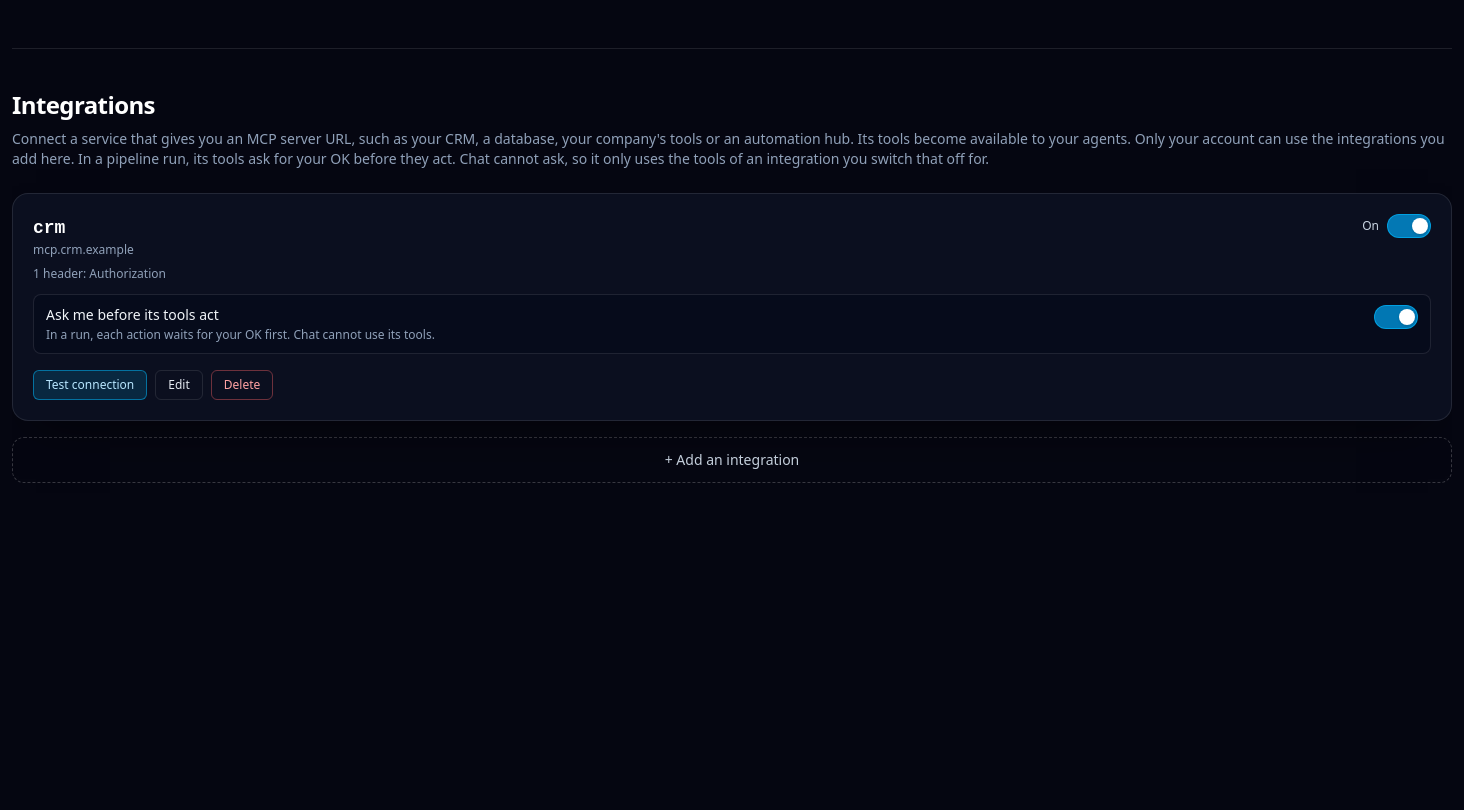
Test: IntegrationsSection › edits an integration, showing saved values only as hints
Click the button "Edit": [179, 385] box [155, 370, 203, 400]
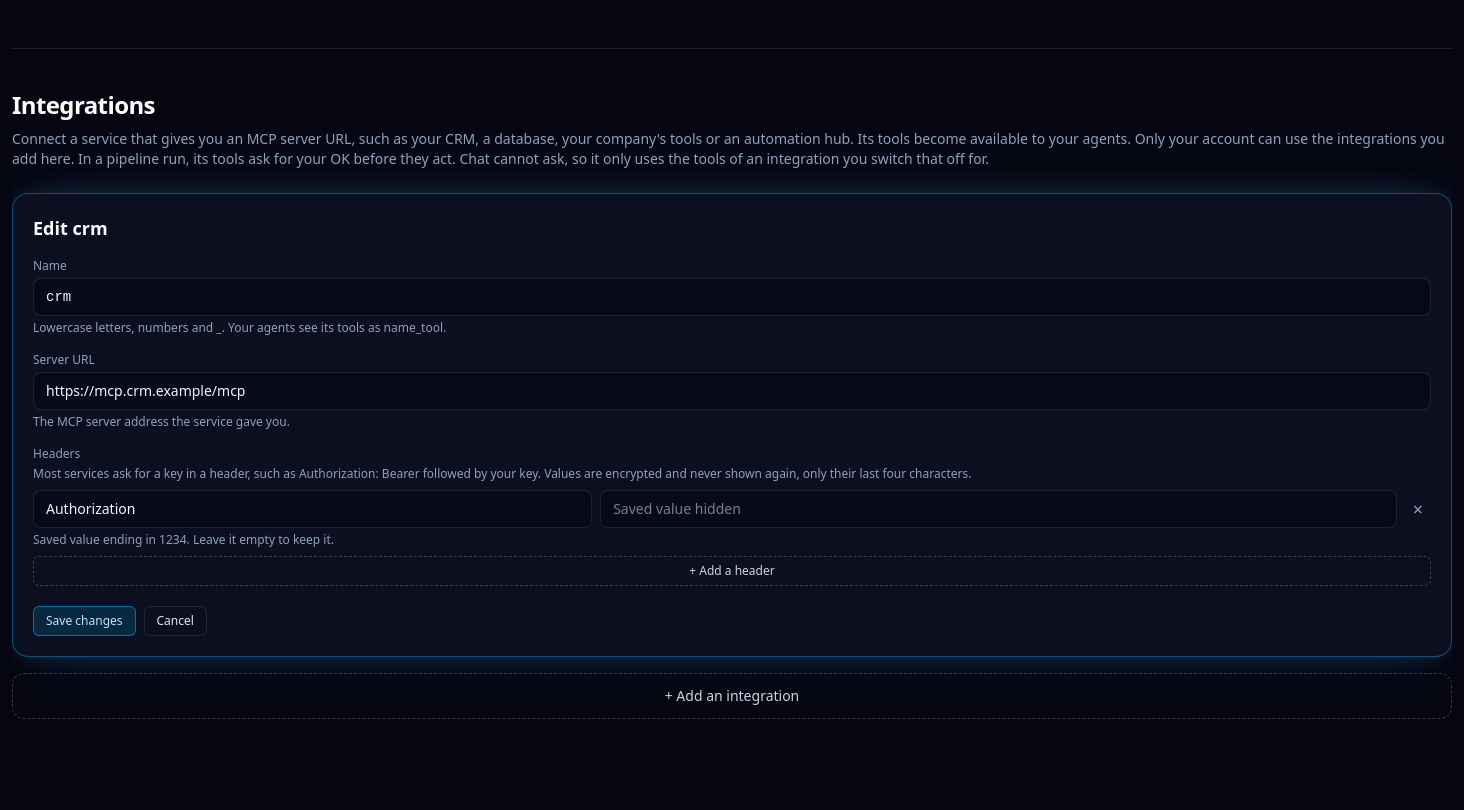
Result: the password field named "Header 1 value" is empty at [600, 490, 1397, 528]
In the field labelled "Name": [732, 297] box [33, 278, 1431, 316], type "sales"
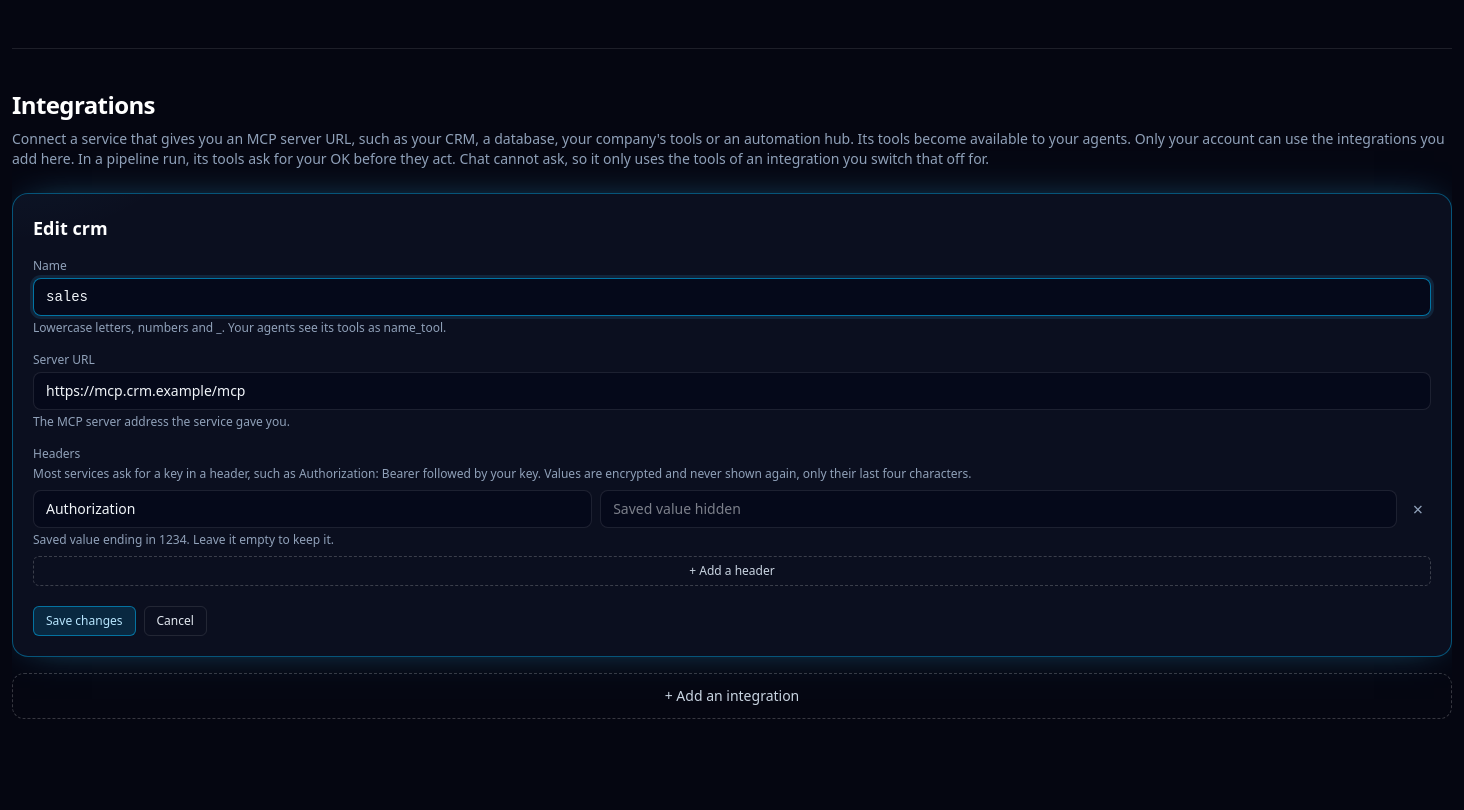
Click the button "Save changes": [84, 621] box [33, 606, 136, 636]
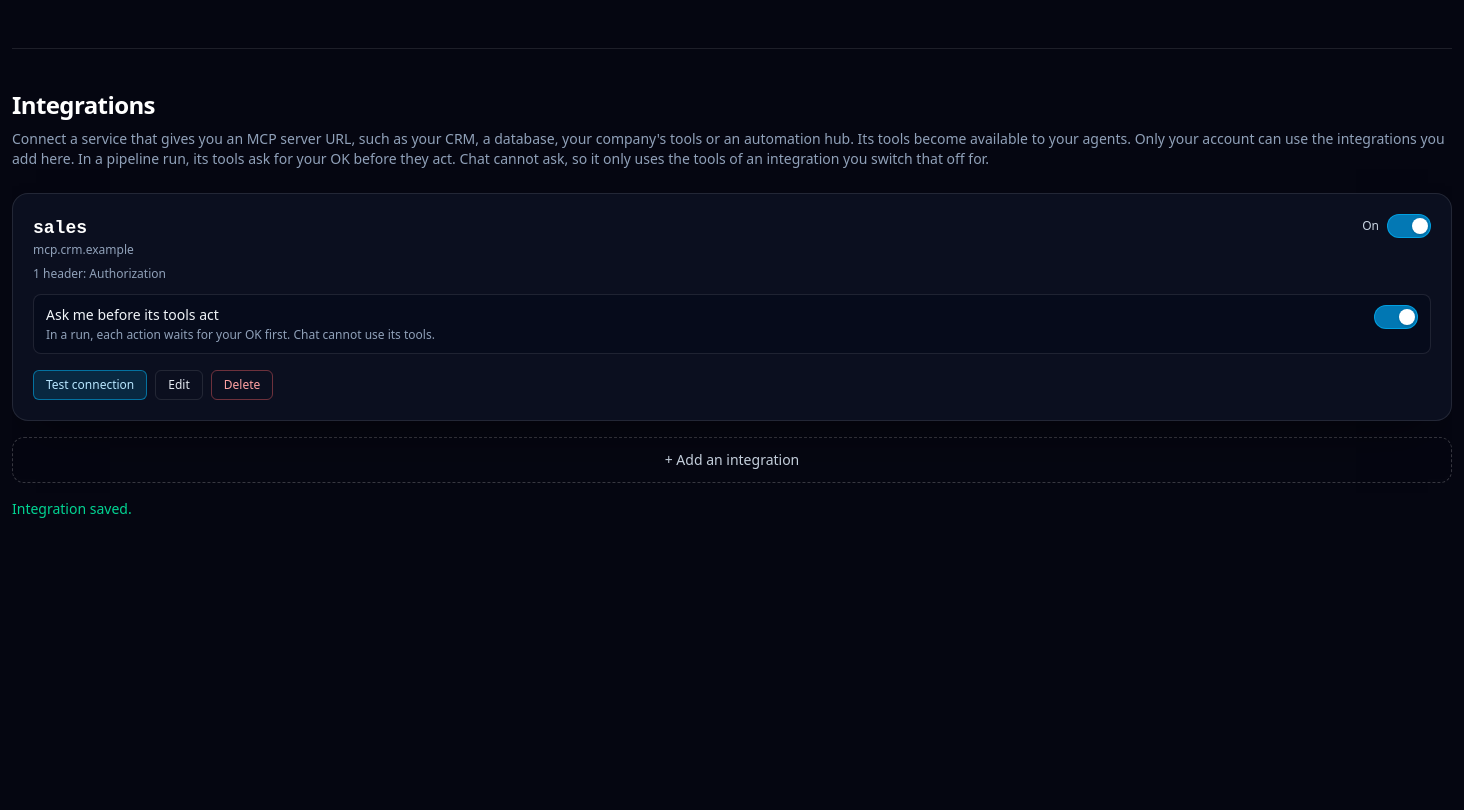
Result: the heading "sales" is shown at [33, 218, 87, 238]
